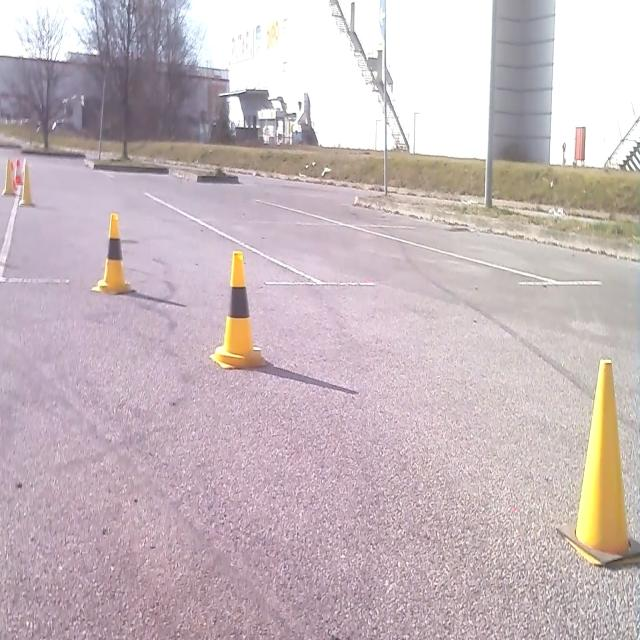orange_cone: (13, 157, 22, 185)
yellow_cone: (556, 355, 639, 569), (210, 249, 266, 370), (91, 210, 133, 295), (19, 160, 34, 206), (2, 156, 16, 196)
